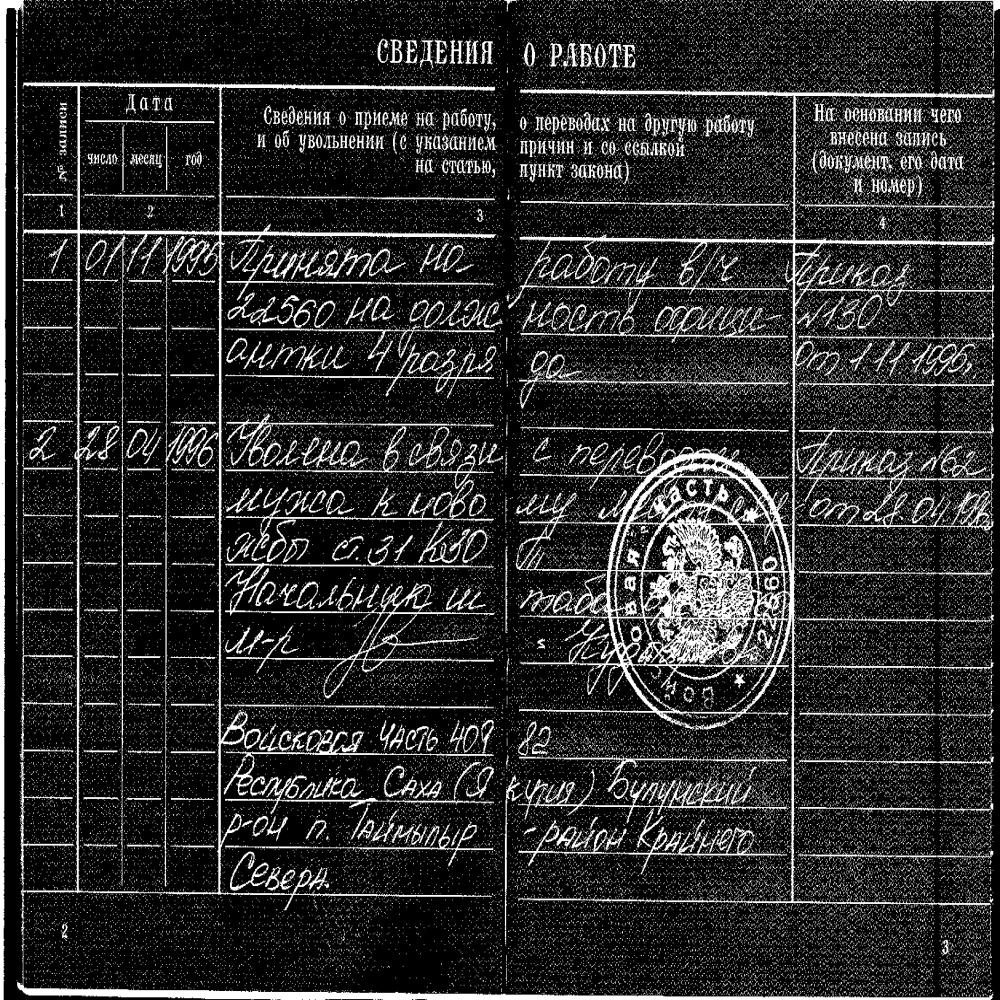rus: (222, 567, 440, 618), (519, 293, 777, 332), (801, 480, 992, 530), (228, 234, 404, 288), (796, 428, 994, 476), (386, 761, 604, 802), (526, 434, 740, 473), (220, 704, 368, 759), (231, 422, 376, 477), (356, 803, 486, 862), (407, 482, 579, 519), (794, 241, 915, 292), (397, 333, 494, 394), (382, 426, 500, 473), (380, 709, 495, 757), (522, 241, 656, 281), (230, 476, 360, 516), (230, 284, 337, 332), (221, 764, 362, 800), (617, 769, 758, 805), (629, 820, 759, 859), (221, 337, 352, 374), (227, 854, 335, 898), (417, 519, 516, 565), (404, 287, 505, 332), (221, 519, 320, 561), (529, 816, 627, 858), (378, 34, 492, 70), (796, 287, 886, 332), (224, 616, 312, 662), (543, 32, 641, 73), (220, 806, 294, 856), (913, 342, 986, 381), (676, 235, 736, 281), (413, 132, 509, 160), (260, 100, 330, 136), (509, 712, 558, 763), (419, 235, 473, 281), (166, 235, 221, 279), (297, 131, 386, 157), (812, 147, 894, 175), (52, 93, 75, 188), (570, 156, 631, 191), (346, 289, 398, 328), (447, 576, 496, 617), (169, 427, 218, 467), (797, 342, 843, 384), (440, 150, 493, 186), (622, 133, 688, 159), (522, 347, 567, 385), (371, 527, 414, 566), (301, 804, 337, 848), (703, 112, 763, 138), (362, 329, 394, 377), (26, 423, 60, 468), (534, 116, 618, 134), (844, 104, 923, 123), (330, 522, 364, 566), (825, 128, 890, 151), (120, 90, 178, 115), (44, 233, 74, 281), (877, 339, 909, 383), (354, 108, 411, 132), (369, 482, 400, 524), (516, 159, 566, 184), (444, 106, 492, 132), (130, 142, 166, 175), (644, 114, 698, 136), (870, 173, 919, 196), (894, 128, 947, 148), (79, 422, 102, 468), (520, 136, 576, 153), (126, 422, 147, 464), (513, 36, 538, 71), (87, 148, 121, 171), (85, 238, 106, 274), (930, 104, 964, 126), (930, 149, 967, 169), (852, 341, 872, 378), (104, 426, 120, 470), (108, 238, 126, 276), (147, 234, 161, 276), (812, 102, 836, 126), (147, 425, 161, 466), (128, 236, 143, 274), (176, 151, 208, 168), (898, 152, 924, 171), (615, 113, 638, 133), (414, 156, 435, 176), (274, 130, 293, 152), (414, 110, 436, 128), (142, 200, 158, 224), (599, 138, 618, 157), (580, 136, 596, 156), (255, 130, 267, 154), (852, 175, 865, 197), (398, 134, 409, 155), (56, 201, 68, 219), (338, 108, 348, 128), (519, 114, 530, 131)
